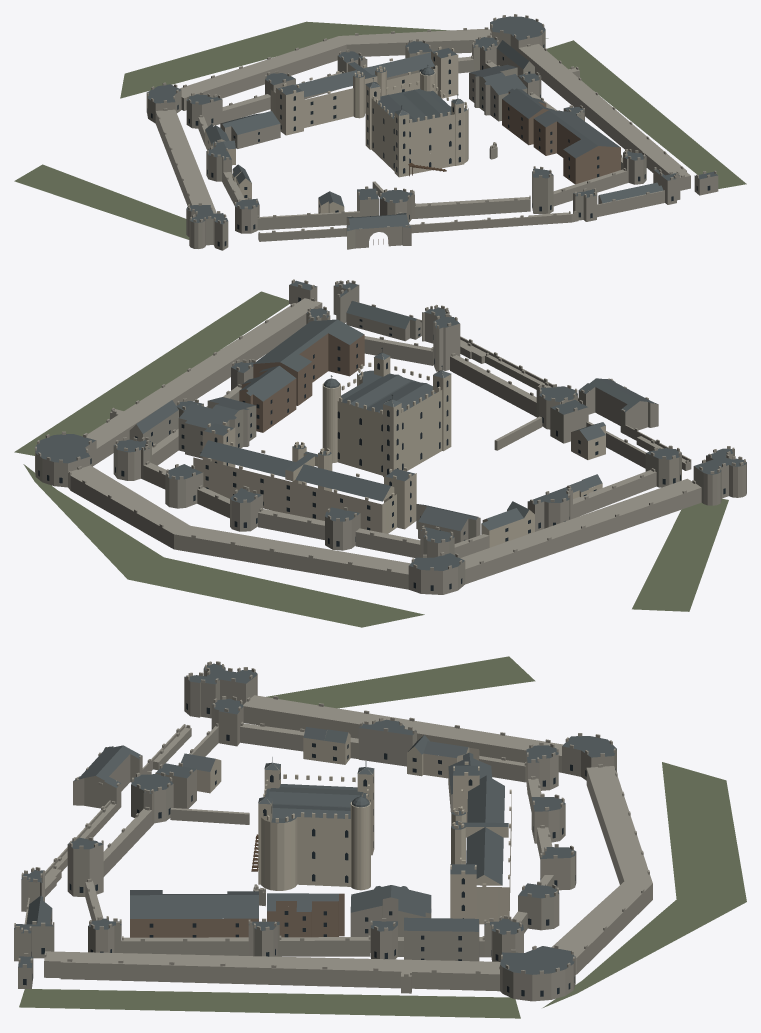
The model's file is tower-of-london-far.glb.
The picture shows the model from 3 angles, top to bottom: view 1: azimuth 30°, elevation 25°; view 2: azimuth 150°, elevation 25°; view 3: azimuth 270°, elevation 25°; orthographic projection. The views are drawn at different scales.
Parts seen in each view (by area): view 1: tower-of-london-0-stone, tower-of-london-0-grass, tower-of-london-0-lead, tower-of-london-0-pale, tower-of-london-0-brick, tower-of-london-0-glass; view 2: tower-of-london-0-stone, tower-of-london-0-grass, tower-of-london-0-lead, tower-of-london-0-pale, tower-of-london-0-brick, tower-of-london-0-glass; view 3: tower-of-london-0-stone, tower-of-london-0-grass, tower-of-london-0-lead, tower-of-london-0-pale, tower-of-london-0-brick, tower-of-london-0-glass.
Boxes of the visible parts, x1,y1,x2,y2 form: tower-of-london-0-stone: [146, 14, 718, 250]; tower-of-london-0-grass: [14, 21, 746, 239]; tower-of-london-0-lead: [147, 16, 717, 231]; tower-of-london-0-pale: [205, 46, 468, 213]; tower-of-london-0-brick: [502, 91, 620, 184]; tower-of-london-0-glass: [147, 44, 710, 246]; tower-of-london-0-stone: [35, 279, 746, 594]; tower-of-london-0-grass: [14, 291, 728, 627]; tower-of-london-0-lead: [35, 280, 746, 570]; tower-of-london-0-pale: [193, 354, 605, 547]; tower-of-london-0-brick: [239, 333, 364, 432]; tower-of-london-0-glass: [38, 297, 725, 590]; tower-of-london-0-stone: [14, 661, 652, 1001]; tower-of-london-0-grass: [19, 656, 746, 1018]; tower-of-london-0-lead: [14, 663, 616, 974]; tower-of-london-0-pale: [197, 730, 511, 924]; tower-of-london-0-brick: [130, 893, 344, 937]; tower-of-london-0-glass: [23, 703, 615, 996].
Bounding box in the file's own units: 292 × 34.99 × 250.
